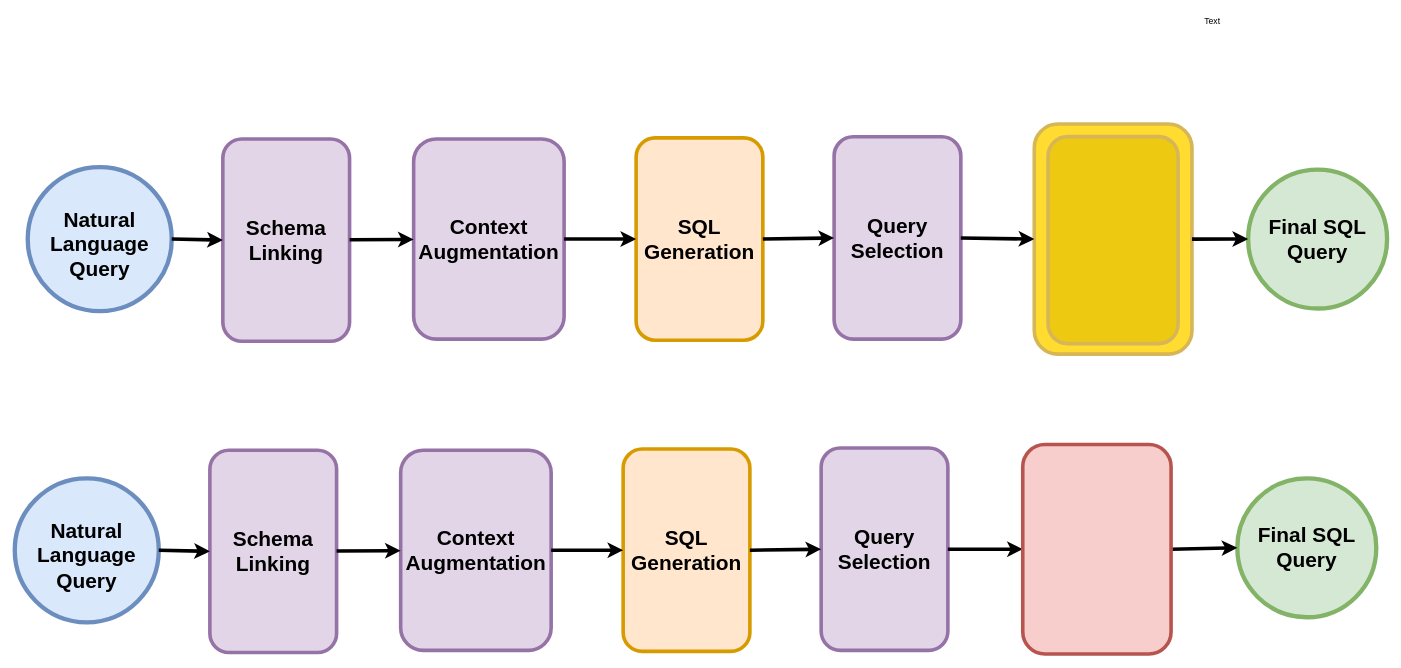
Some shapes in this 1401 by 668 pixel diagram are drawn without their labels. Each missing label, with the box of its shape:
Dynamic Feedback: (1046, 134, 1180, 345)
Query Refinement (Static Feedback): (1021, 442, 1173, 655)
